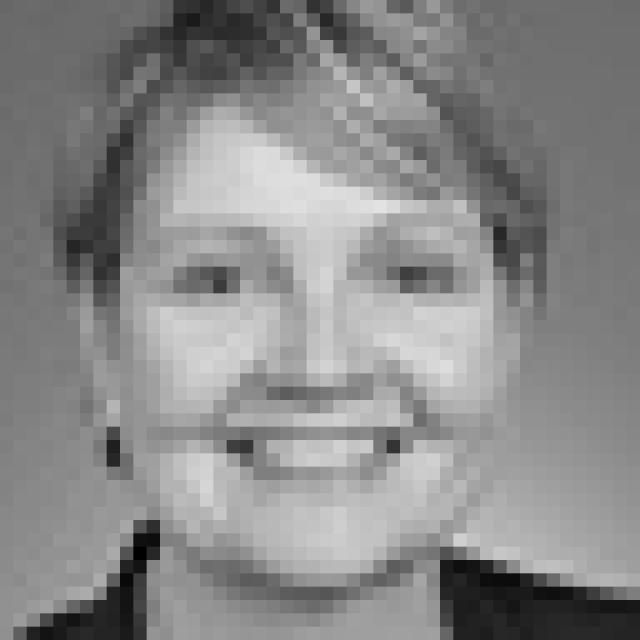happy: (134, 208, 492, 498)
